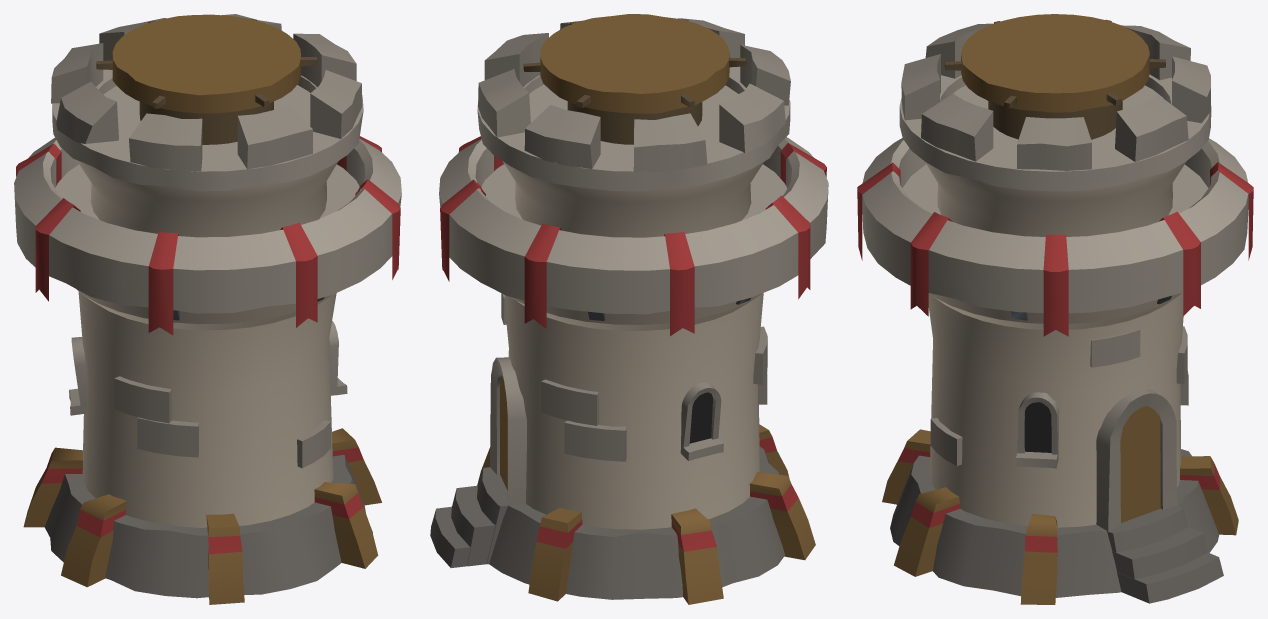
Rendered from Tower_lvl2.fbx.
3 views of the same model, side by side, from view 1: azimuth 30°, elevation 25°; view 2: azimuth 150°, elevation 25°; view 3: azimuth 270°, elevation 25° (orthographic).
Parts seen in each view (by area): view 1: Cylinder.026, Cylinder.024, Cube.043, Cube.009, Cylinder.025, Cylinder.029, Cylinder.031, Cube.047, Cube.039, Cube.045, Cube.044, Cube.046 (+6 smaller); view 2: Cylinder.026, Cylinder.024, Cube.043, Cube.009, Cylinder.025, Cylinder.029, Cylinder.031, Cube.047, Cylinder.020, Cylinder.018, Cube.046, Cube.013 (+7 smaller); view 3: Cylinder.026, Cylinder.024, Cube.009, Cube.043, Cylinder.025, Cylinder.029, Cylinder.031, Cube.047, Cylinder.020, Cylinder.018, Cylinder.006, Cube.045 (+6 smaller).
Part boxes in pixels (left/top/right/bottom): Cylinder.026: left=76, top=289, right=336, bottom=527; Cylinder.024: left=14, top=138, right=401, bottom=313; Cube.043: left=51, top=14, right=362, bottom=171; Cube.009: left=96, top=14, right=317, bottom=144; Cylinder.025: left=44, top=455, right=372, bottom=598; Cylinder.029: left=76, top=160, right=338, bottom=237; Cylinder.031: left=52, top=69, right=363, bottom=191; Cube.047: left=16, top=136, right=400, bottom=335; Cube.039: left=61, top=494, right=126, bottom=587; Cube.045: left=314, top=482, right=378, bottom=568; Cube.044: left=206, top=513, right=244, bottom=604; Cube.046: left=23, top=447, right=82, bottom=527; Cylinder.026: left=504, top=293, right=763, bottom=529; Cylinder.024: left=439, top=137, right=828, bottom=314; Cube.043: left=478, top=18, right=790, bottom=171; Cube.009: left=523, top=14, right=746, bottom=144; Cylinder.025: left=489, top=446, right=784, bottom=599; Cylinder.029: left=502, top=161, right=763, bottom=237; Cylinder.031: left=477, top=66, right=790, bottom=191; Cube.047: left=440, top=136, right=826, bottom=336; Cylinder.020: left=430, top=467, right=507, bottom=567; Cylinder.018: left=490, top=357, right=526, bottom=505; Cube.046: left=671, top=508, right=723, bottom=604; Cube.013: left=528, top=507, right=582, bottom=601; Cylinder.026: left=928, top=292, right=1183, bottom=527; Cylinder.024: left=862, top=138, right=1248, bottom=313; Cube.009: left=944, top=14, right=1165, bottom=139; Cube.043: left=901, top=23, right=1210, bottom=170; Cylinder.025: left=890, top=449, right=1219, bottom=597; Cylinder.029: left=925, top=161, right=1186, bottom=236; Cylinder.031: left=899, top=74, right=1211, bottom=191; Cube.047: left=857, top=162, right=1253, bottom=336; Cylinder.020: left=1103, top=505, right=1223, bottom=603; Cylinder.018: left=1096, top=389, right=1176, bottom=532; Cylinder.006: left=1120, top=406, right=1160, bottom=522; Cube.045: left=894, top=487, right=960, bottom=576.
Size of the model in its own units: 314 by 416 by 315.
